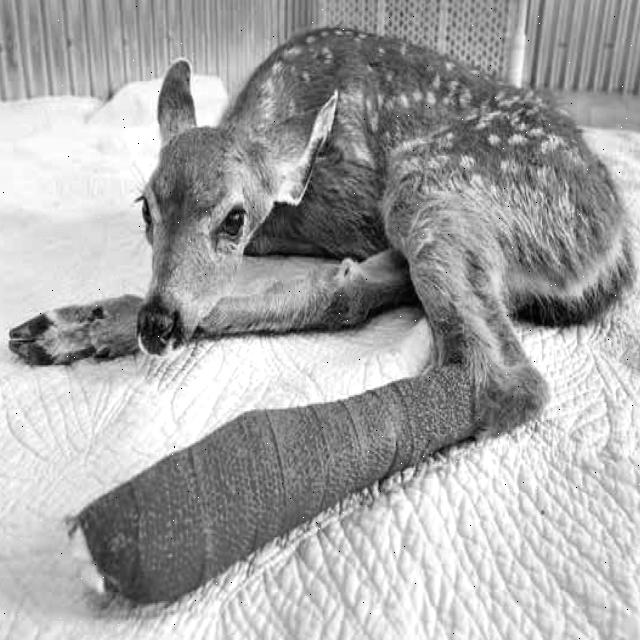deer: (90, 70, 363, 363)
